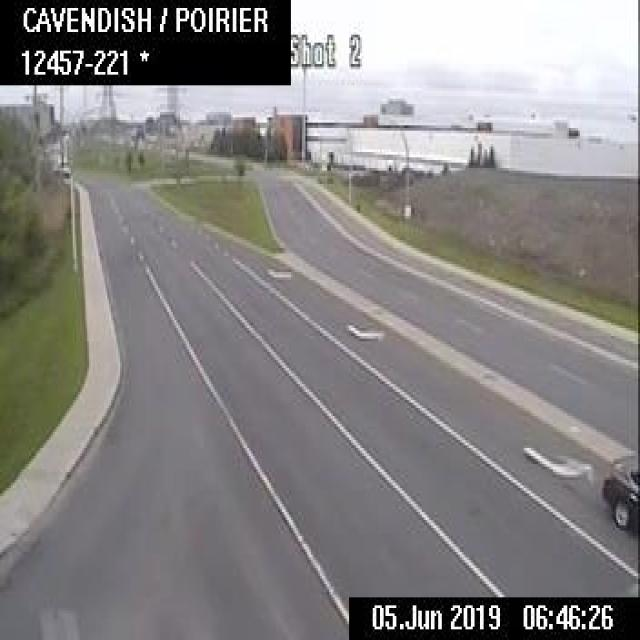vehicle: (600, 451, 638, 536), (54, 155, 71, 173)
